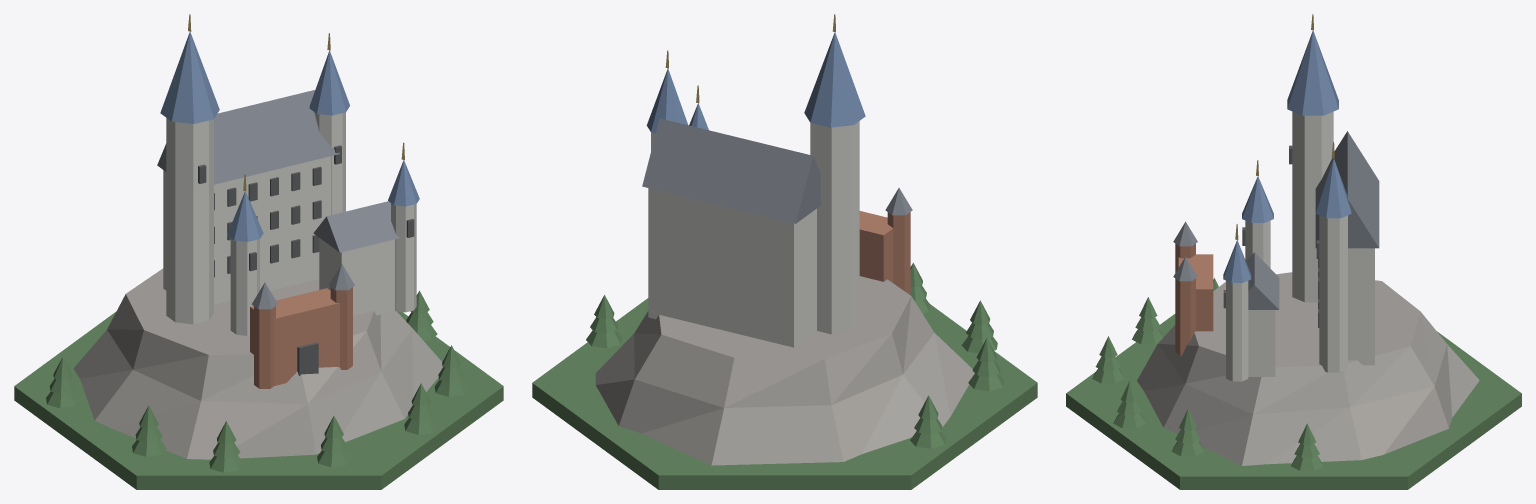
File: neuschwanstein.glb
3 views of the same model, side by side, from view 1: azimuth 30°, elevation 25°; view 2: azimuth 150°, elevation 25°; view 3: azimuth 270°, elevation 25° (orthographic). The views are drawn at different scales.
Parts seen in each view (by area): view 1: LOD0; view 2: LOD0; view 3: LOD0.
Part boxes in pixels (box(x1,y1,x2,y2)): LOD0: box(14, 14, 503, 489); LOD0: box(532, 14, 1037, 489); LOD0: box(1066, 14, 1521, 489).
Size of what is drawn, in the model's own units: 1.49 by 1.52 by 1.72.
